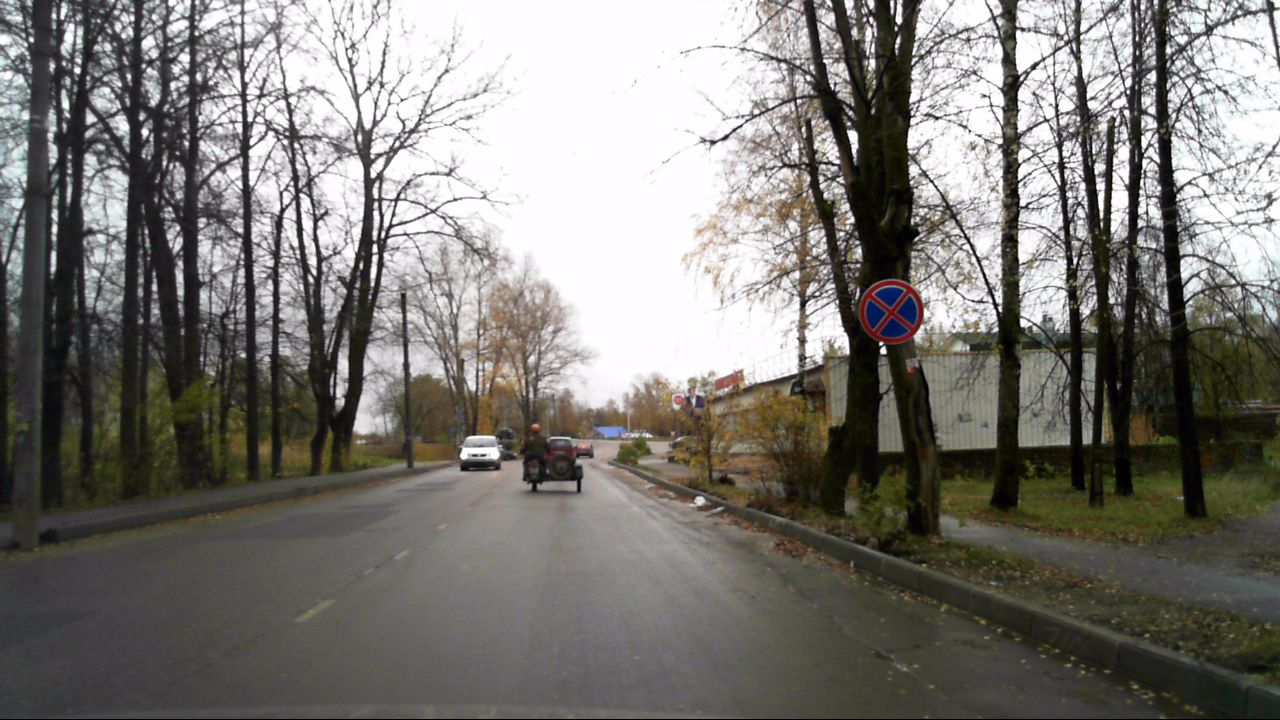No Parking: (856, 277, 924, 346)
